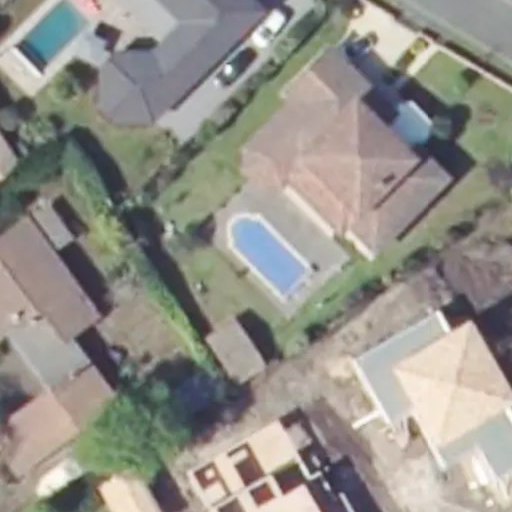pool: (226, 215, 305, 301), (23, 4, 89, 64)
